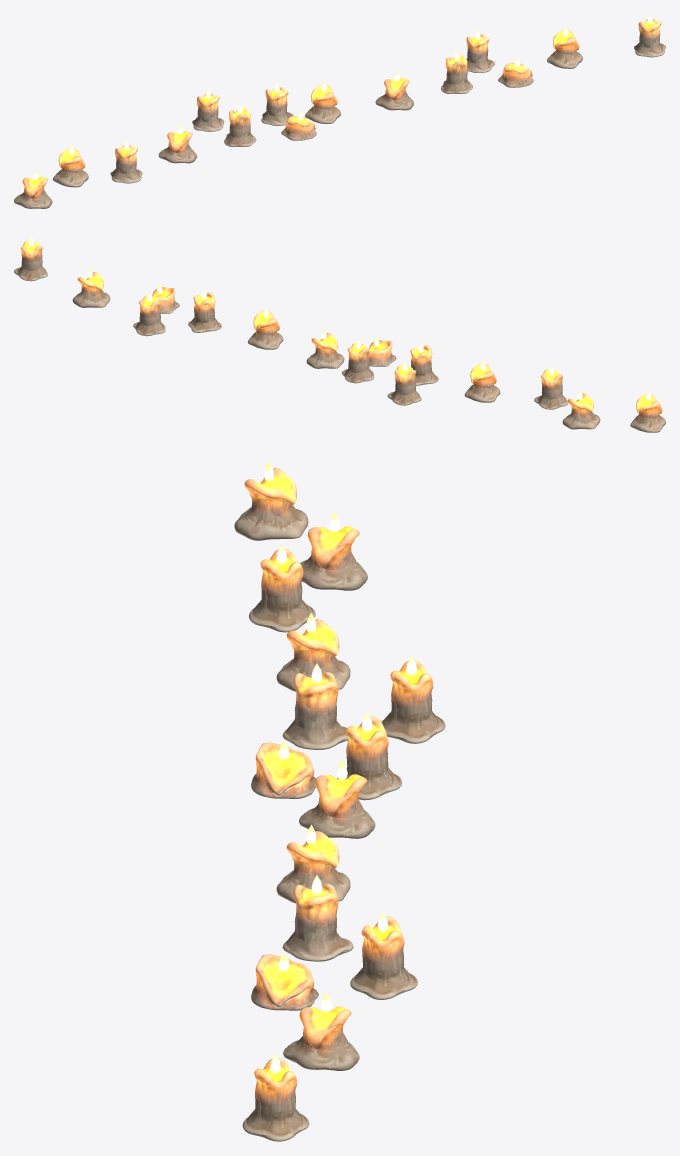
File: Circus stuff candles 9.fbx
3 views of the same model, one above another, from view 1: azimuth 30°, elevation 25°; view 2: azimuth 150°, elevation 25°; view 3: azimuth 270°, elevation 25° (orthographic). The views are drawn at different scales.
Parts seen in each view (by area): view 1: polySurface1217; view 2: polySurface1217; view 3: polySurface1217.
Boxes of the visible parts, x1,y1,x2,y2 form: polySurface1217: (14, 14, 665, 208); polySurface1217: (14, 237, 665, 432); polySurface1217: (234, 461, 445, 1141).
Size of the model in its own units: 379 by 21.64 by 53.5.
